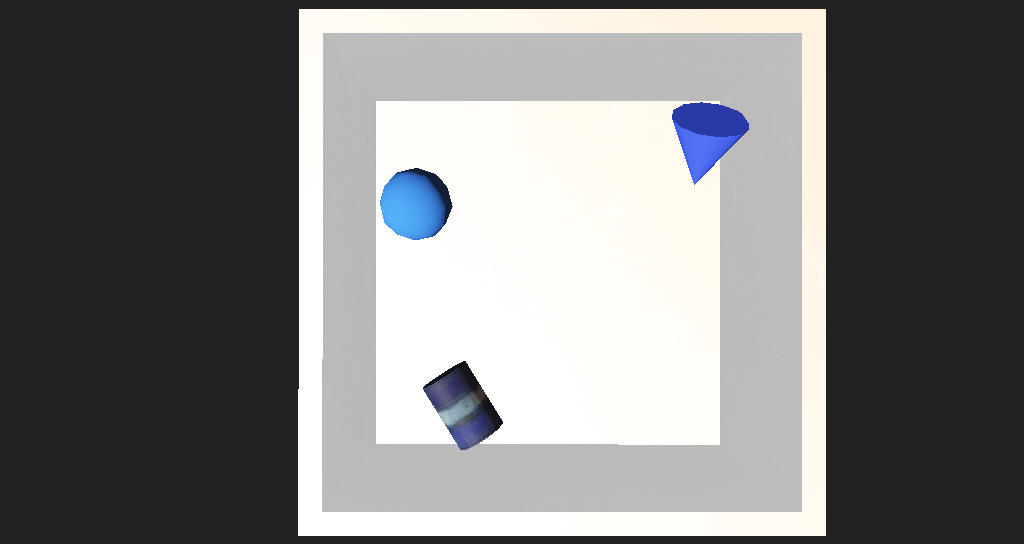cone: (394, 322, 468, 384)
cylinder: (600, 160, 680, 231)
sphere: (360, 208, 421, 251)
